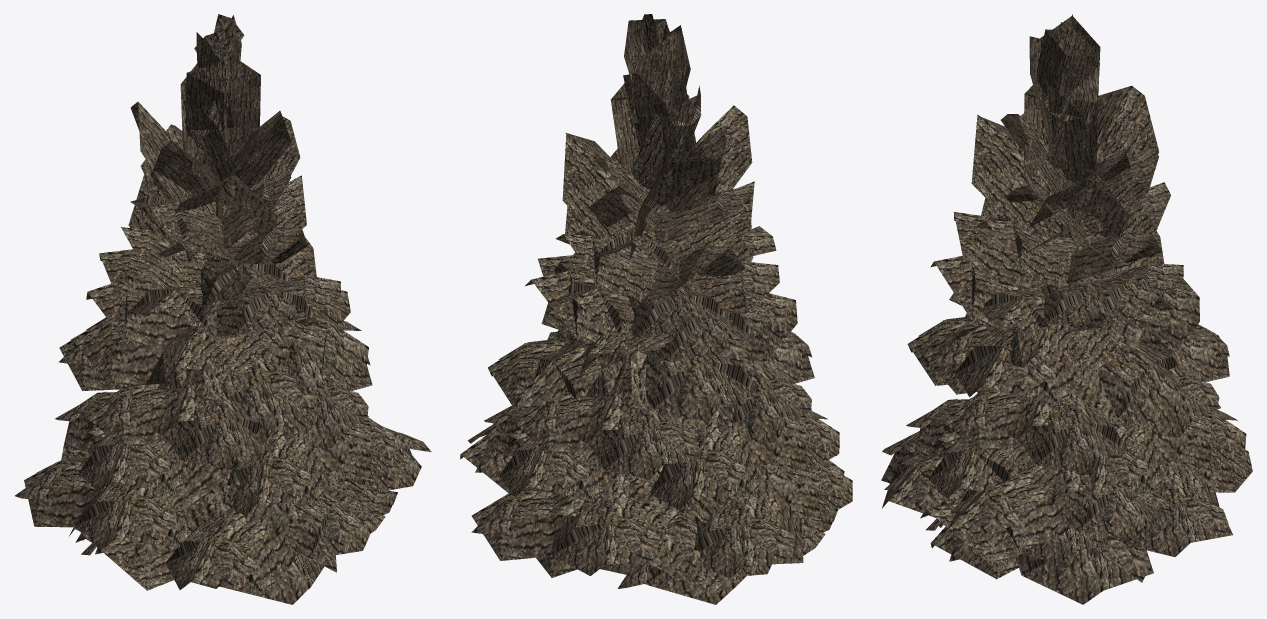
Rendered from map7.obj.
3 views of the same model, side by side, from view 1: azimuth 30°, elevation 25°; view 2: azimuth 150°, elevation 25°; view 3: azimuth 270°, elevation 25° (orthographic). The views are drawn at different scales.
Parts seen in each view (by area): view 1: map3.007_map3.004; view 2: map3.007_map3.004; view 3: map3.007_map3.004.
Part boxes in pixels (bbox=[...]): map3.007_map3.004: bbox=[15, 14, 431, 604]; map3.007_map3.004: bbox=[460, 14, 852, 604]; map3.007_map3.004: bbox=[881, 14, 1252, 604].
Size of the model in its own units: 2.62 by 4.09 by 2.55.
1 material, 1 textured.
